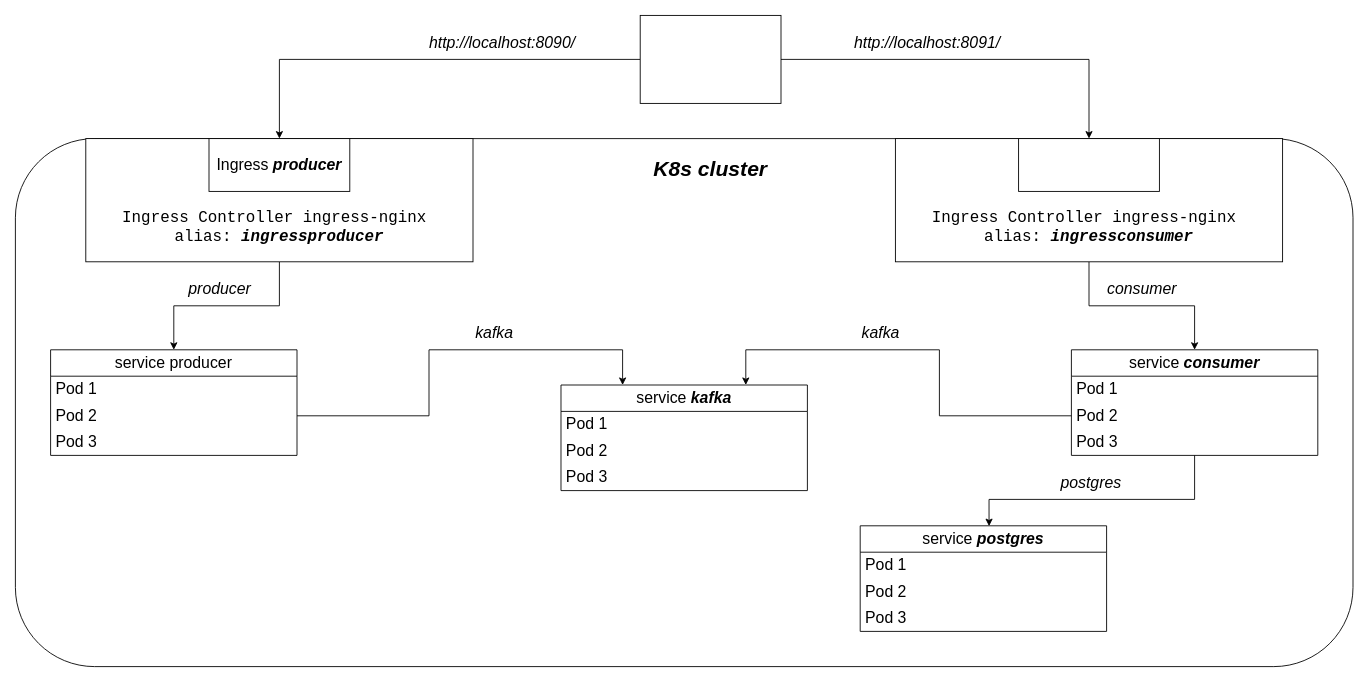
Some shapes in this 1368 by 682 pixel diagram are drawn without their labels. Each missing label, with the centre of its shape:
Browser: point (710, 59)
Ingress consumer: point (1088, 164)
